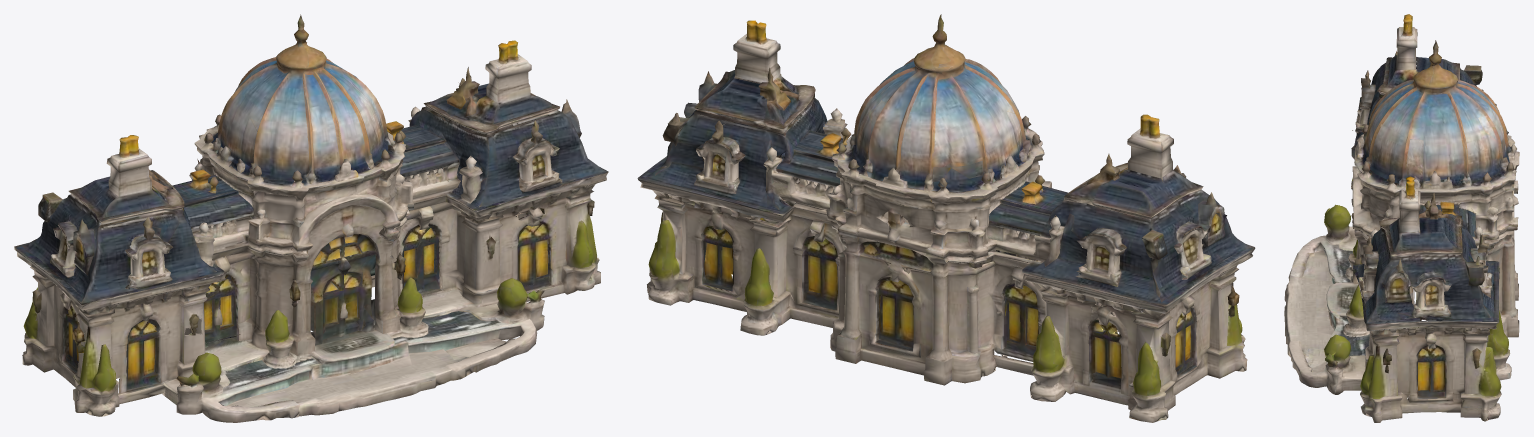
3 renders of one model, left to right at view 1: azimuth 30°, elevation 25°; view 2: azimuth 150°, elevation 25°; view 3: azimuth 270°, elevation 25°, orthographic. The views are drawn at different scales.
Parts seen in each view (by area): view 1: classic__onsen_3__native_mobile; view 2: classic__onsen_3__native_mobile; view 3: classic__onsen_3__native_mobile.
Part boxes in pixels (<box>): classic__onsen_3__native_mobile: <box>14,14,608,422</box>; classic__onsen_3__native_mobile: <box>637,14,1255,422</box>; classic__onsen_3__native_mobile: <box>1284,14,1519,422</box>.
Bounding box in the file's own units: 1 × 0.5858 × 0.4385.
1 material, 1 textured.
